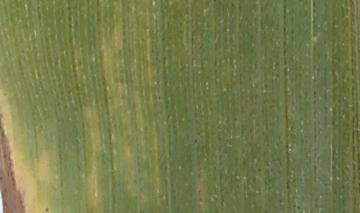tarspot: (44, 207, 49, 212), (194, 138, 198, 144), (258, 168, 262, 173)
